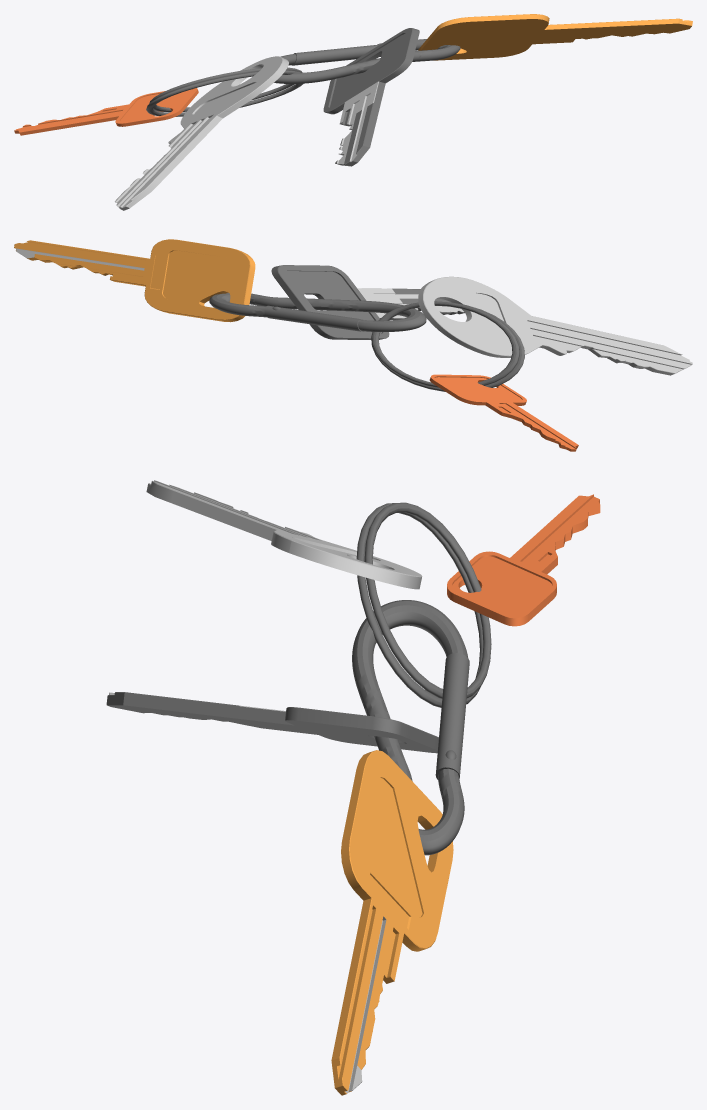
File: key.obj
3 views of the same model, one above another, from view 1: azimuth 30°, elevation 25°; view 2: azimuth 150°, elevation 25°; view 3: azimuth 270°, elevation 25° (orthographic). The views are drawn at different scales.
Parts seen in each view (by area): view 1: Plane.011, Cube.610, Cube.609, NurbsPath.253, Cube.611, Circle; view 2: Plane.011, Cube.609, Cube.610, NurbsPath.253, Cube.611, Circle; view 3: Plane.011, NurbsPath.253, Cube.611, Cube.610, Circle, Cube.609.
Boxes of the visible parts, left/top/right/bottom form: Plane.011: left=418, top=14, right=692, bottom=60; Cube.610: left=323, top=28, right=419, bottom=166; Cube.609: left=115, top=56, right=288, bottom=210; NurbsPath.253: left=274, top=39, right=460, bottom=83; Cube.611: left=14, top=88, right=198, bottom=135; Circle: left=146, top=67, right=303, bottom=116; Plane.011: left=14, top=239, right=255, bottom=322; Cube.609: left=418, top=276, right=692, bottom=375; Cube.610: left=271, top=265, right=464, bottom=339; NurbsPath.253: left=209, top=292, right=426, bottom=331; Cube.611: left=429, top=374, right=578, bottom=451; Circle: left=371, top=301, right=524, bottom=391; Plane.011: left=331, top=750, right=453, bottom=1095; NurbsPath.253: left=352, top=600, right=469, bottom=855; Cube.611: left=447, top=494, right=600, bottom=626; Cube.610: left=106, top=692, right=438, bottom=753; Circle: left=356, top=502, right=491, bottom=707; Cube.609: left=146, top=480, right=422, bottom=589.
Size of the model in its own units: 1.27 by 0.1469 by 0.4382.
